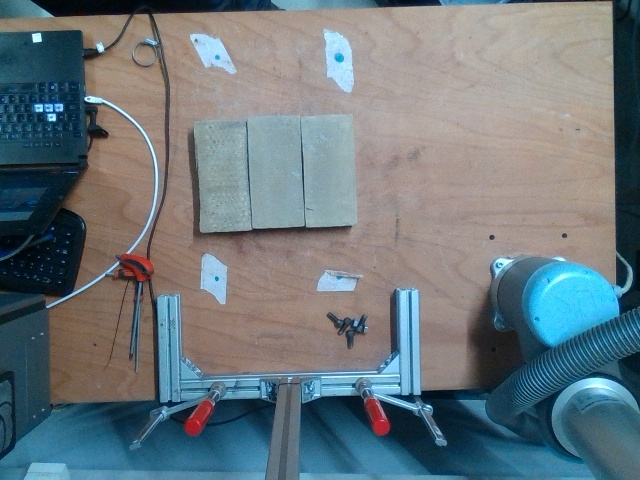brick: (247, 115, 302, 228), (302, 111, 354, 226), (197, 120, 248, 229)
